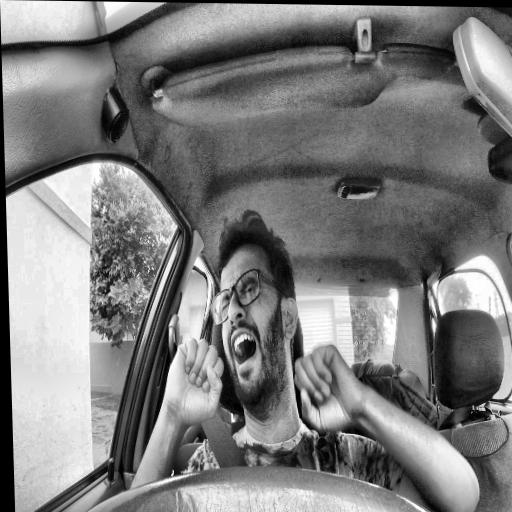drowsy: (207, 207, 302, 413)
